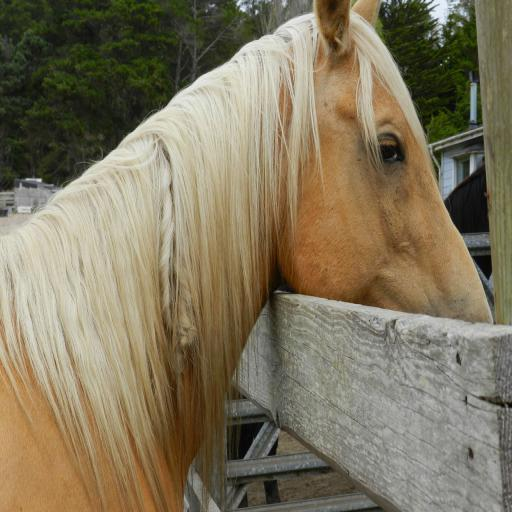horse: (0, 0, 496, 512), (228, 164, 494, 512)
